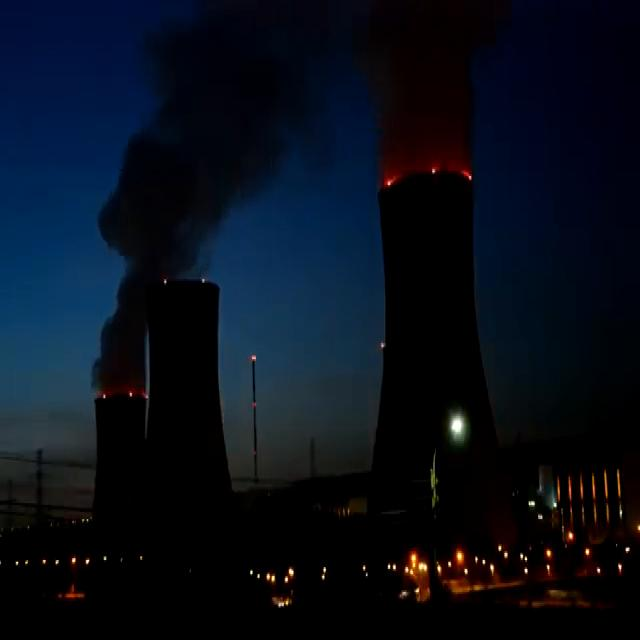smoke: (97, 0, 323, 398), (360, 0, 484, 190)
